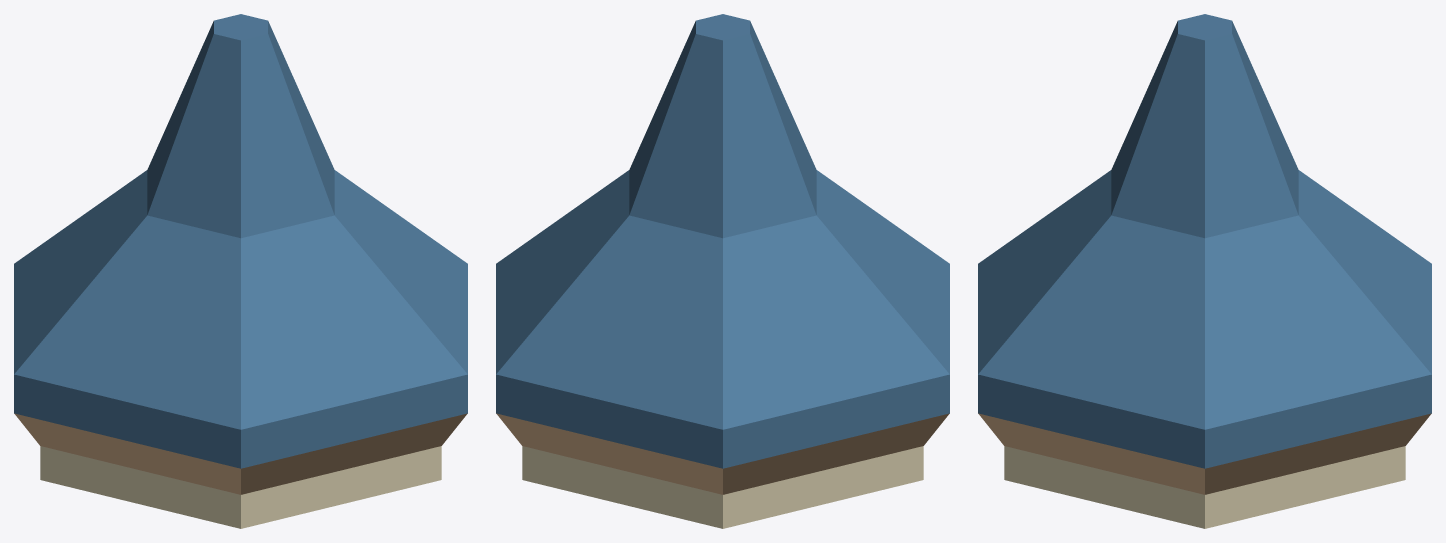
File: towerHexagonRoof_exclusive.fbx
The picture shows the model from 3 angles, left to right: view 1: azimuth 30°, elevation 25°; view 2: azimuth 150°, elevation 25°; view 3: azimuth 270°, elevation 25°; orthographic projection.
Visible parts, largest first — view 1: towerHexagonRoof_exclusive; view 2: towerHexagonRoof_exclusive; view 3: towerHexagonRoof_exclusive.
Boxes of the visible parts, x1,y1,x2,y2 form: towerHexagonRoof_exclusive: (14,14,467,528); towerHexagonRoof_exclusive: (496,14,949,528); towerHexagonRoof_exclusive: (978,14,1431,528).
Bounding box in the file's own units: 9.76 × 8.3 × 8.46.
